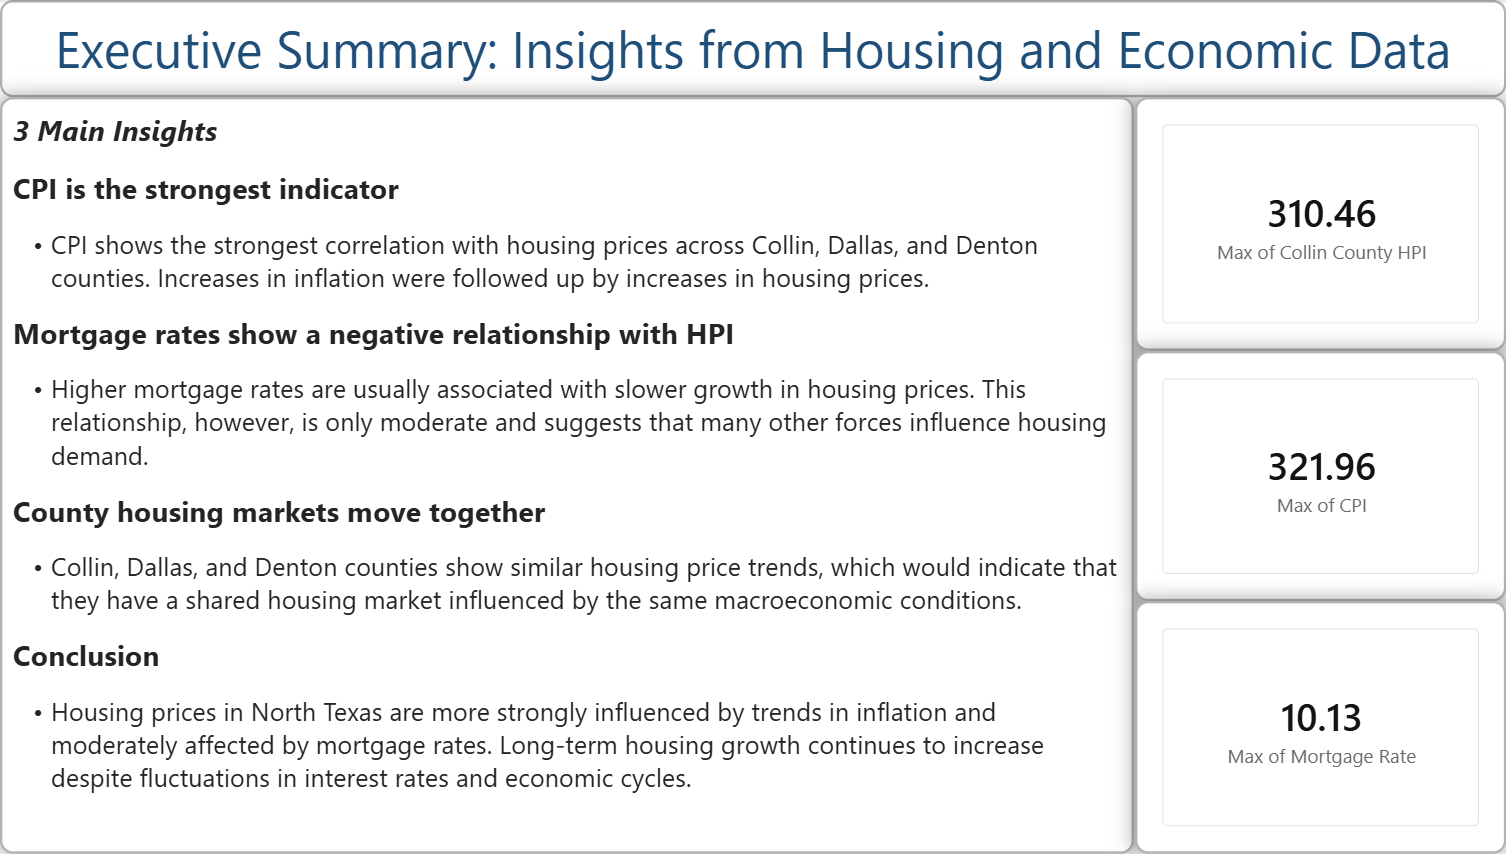

The page's visual inventory and layout, read from the dashboard file:
{"tool":"powerbi","page":{"name":"Executive Summary","canvas":[1280,720],"ordinal":3},"visuals":[{"type":"textbox","box":[10.1,0,1269.9,81.6],"z":0},{"type":"textbox","box":[10.1,81.6,956.5,638],"z":1000},{"type":"cardVisual","fields":{"Data":["Max(north_texas_macro_dataset.Collin County HPI)"]},"box":[967,82,313,214],"z":2000},{"type":"cardVisual","fields":{"Data":["Max(north_texas_macro_dataset.CPI)"]},"box":[967,296,313,211],"z":3000},{"type":"cardVisual","fields":{"Data":["Max(north_texas_macro_dataset.Mortgage Rate)"]},"box":[967,507,313,213],"z":4000}]}

Visuals, with their boxes in screenshot pixels (x1, y1, x2, y2), scaled from the page's 1280x720 canvas onto the 1506x854 screenshot:
textbox: region(12, 0, 1505, 97)
textbox: region(12, 97, 1137, 853)
cardVisual - Max(north_texas_macro_dataset.Collin County HPI): region(1138, 97, 1505, 351)
cardVisual - Max(north_texas_macro_dataset.CPI): region(1138, 351, 1505, 601)
cardVisual - Max(north_texas_macro_dataset.Mortgage Rate): region(1138, 601, 1505, 853)
